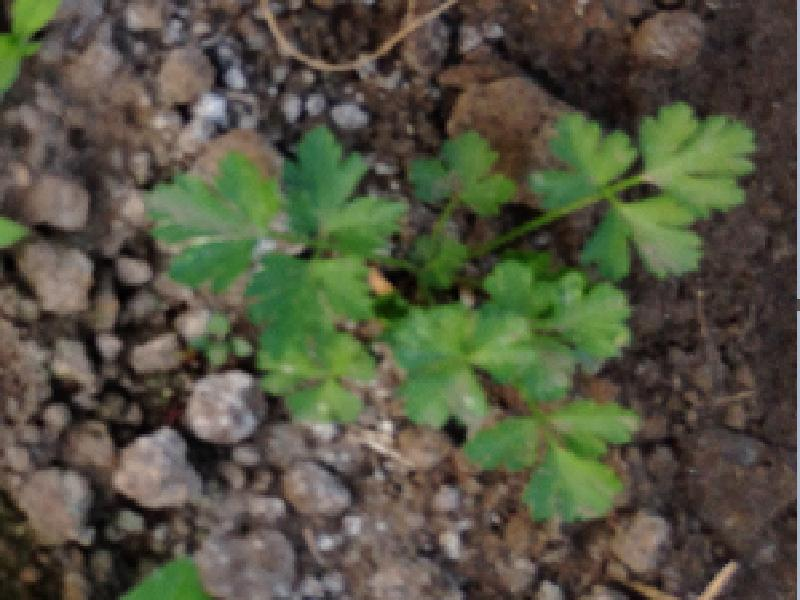radish: (0, 3, 765, 600)
